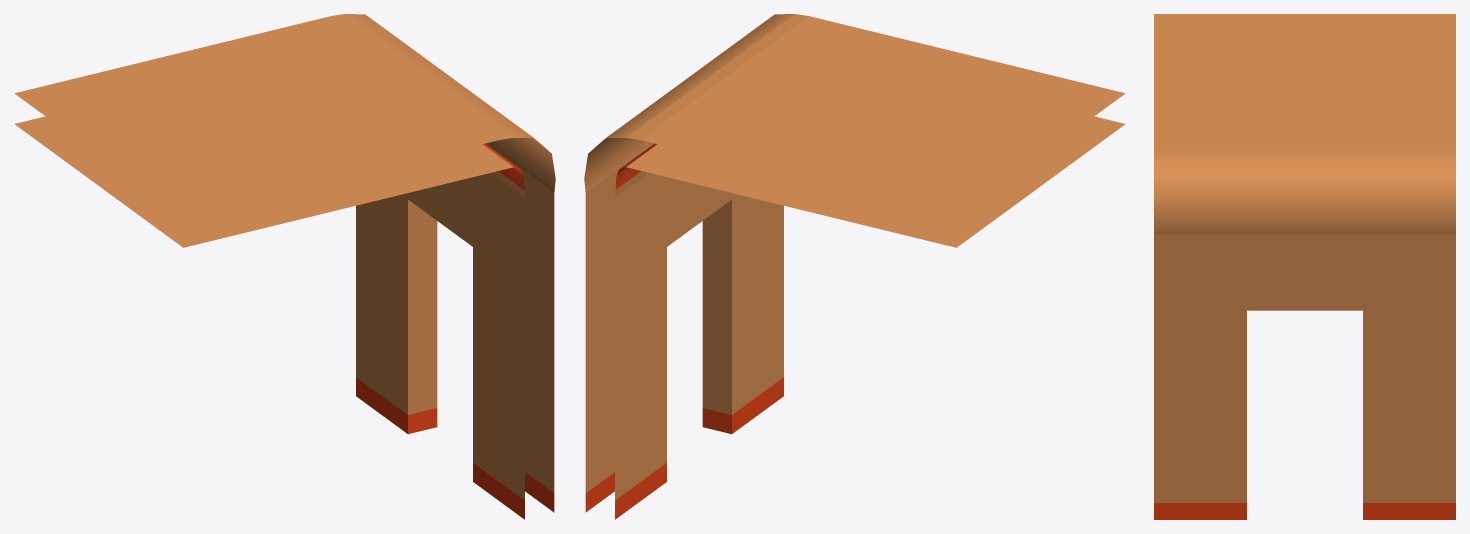
Rendered from DoorWayNoCaps.fbx.
3 renders of one model, left to right at view 1: azimuth 30°, elevation 25°; view 2: azimuth 150°, elevation 25°; view 3: azimuth 270°, elevation 25°, orthographic. The views are drawn at different scales.
Parts seen in each view (by area): view 1: DoorWayNoCaps; view 2: DoorWayNoCaps; view 3: DoorWayNoCaps.
Boxes of the visible parts, left/top/right/bottom form: DoorWayNoCaps: left=14, top=14, right=555, bottom=519; DoorWayNoCaps: left=584, top=14, right=1125, bottom=519; DoorWayNoCaps: left=1154, top=14, right=1455, bottom=519.
Bounding box in the file's own units: 3.18 × 3.15 × 2.5.
